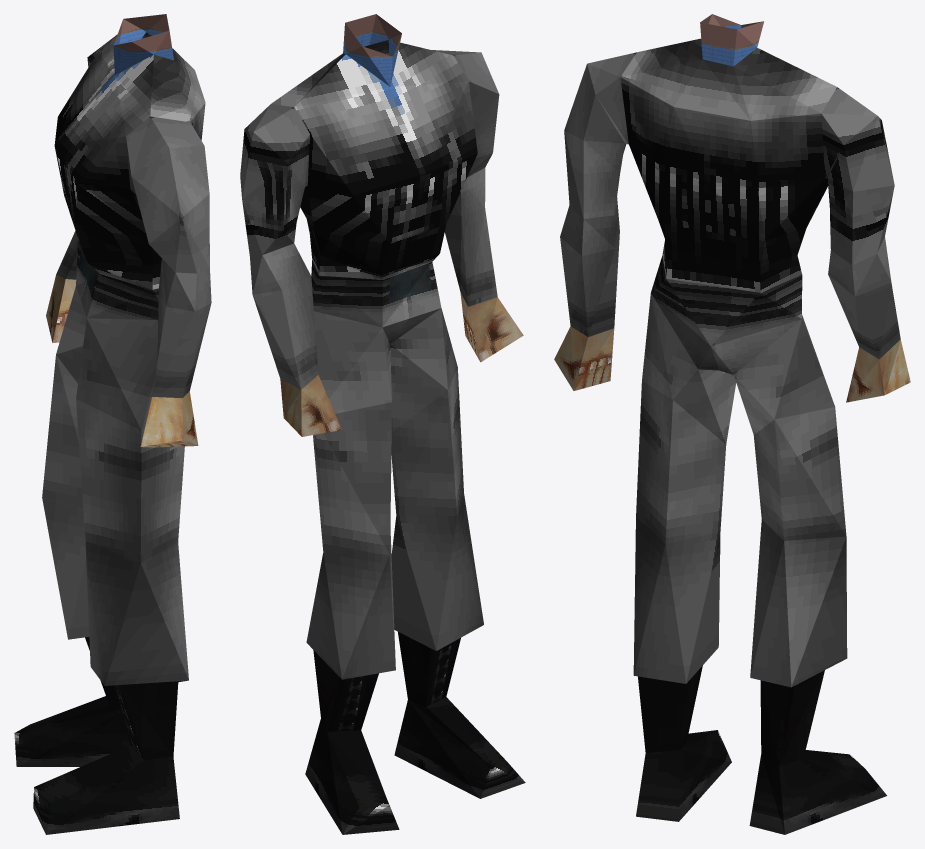
File: primary_014.glb
3 renders of one model, left to right at view 1: azimuth 30°, elevation 25°; view 2: azimuth 150°, elevation 25°; view 3: azimuth 270°, elevation 25°, orthographic. The views are drawn at different scales.
Parts seen in each view (by area): view 1: Object; view 2: Object; view 3: Object.
Part boxes in pixels (x1=…): Object: x1=14, y1=14, x2=211, y2=834; Object: x1=240, y1=14, x2=525, y2=834; Object: x1=554, y1=14, x2=910, y2=834.
Size of the model in its own units: 0.5122 by 1.83 by 0.7327.
69 materials, 69 textured.
